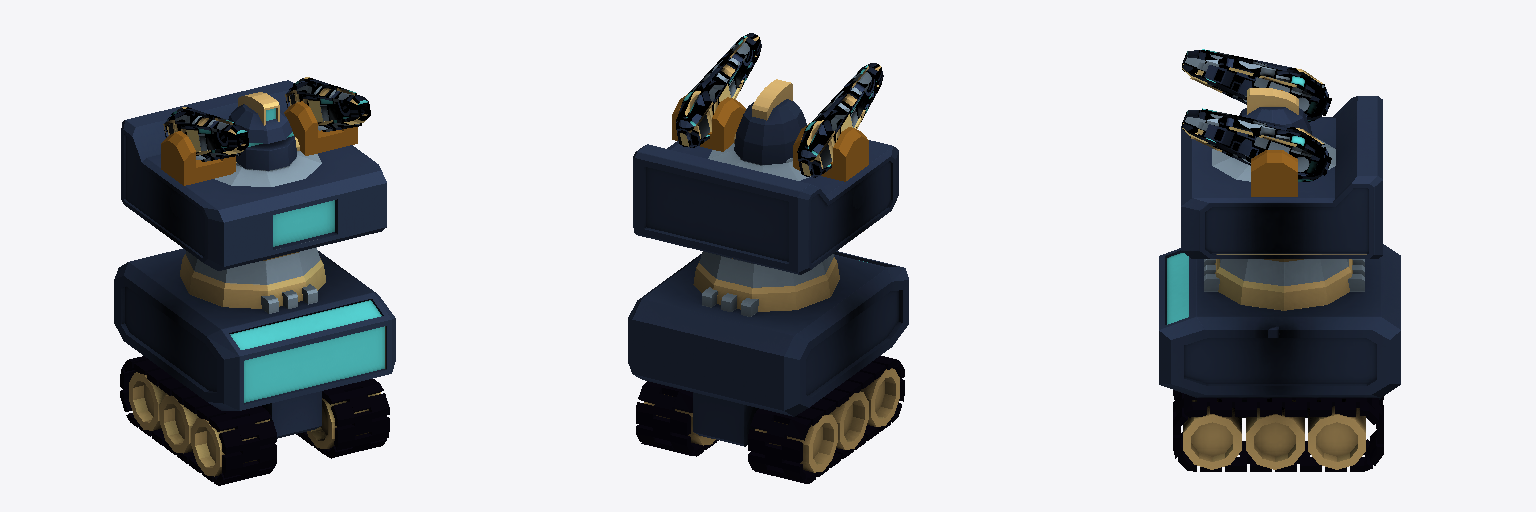
3 renders of one model, left to right at view 1: azimuth 30°, elevation 25°; view 2: azimuth 150°, elevation 25°; view 3: azimuth 270°, elevation 25°, orthographic.
Parts seen in each view (by area): view 1: Object020, Box031, Object013, Box032; view 2: Object020, Box031, Object013, Box032; view 3: Object020, Object013, Box032.
Part boxes in pixels (x1,y1,x2,y2): Object020: (114,77,395,438); Box031: (120,356,276,485); Object013: (129,372,380,476); Box032: (296,379,389,458); Object020: (628,33,908,446); Box031: (748,356,904,483); Object013: (644,368,899,472); Box032: (636,381,718,456); Object020: (1159,49,1400,417); Object013: (1183,398,1365,469); Box032: (1173,393,1383,471).
Size of the model in its own units: 179 by 344 by 214.
Materials: 4 (2 with a texture image).